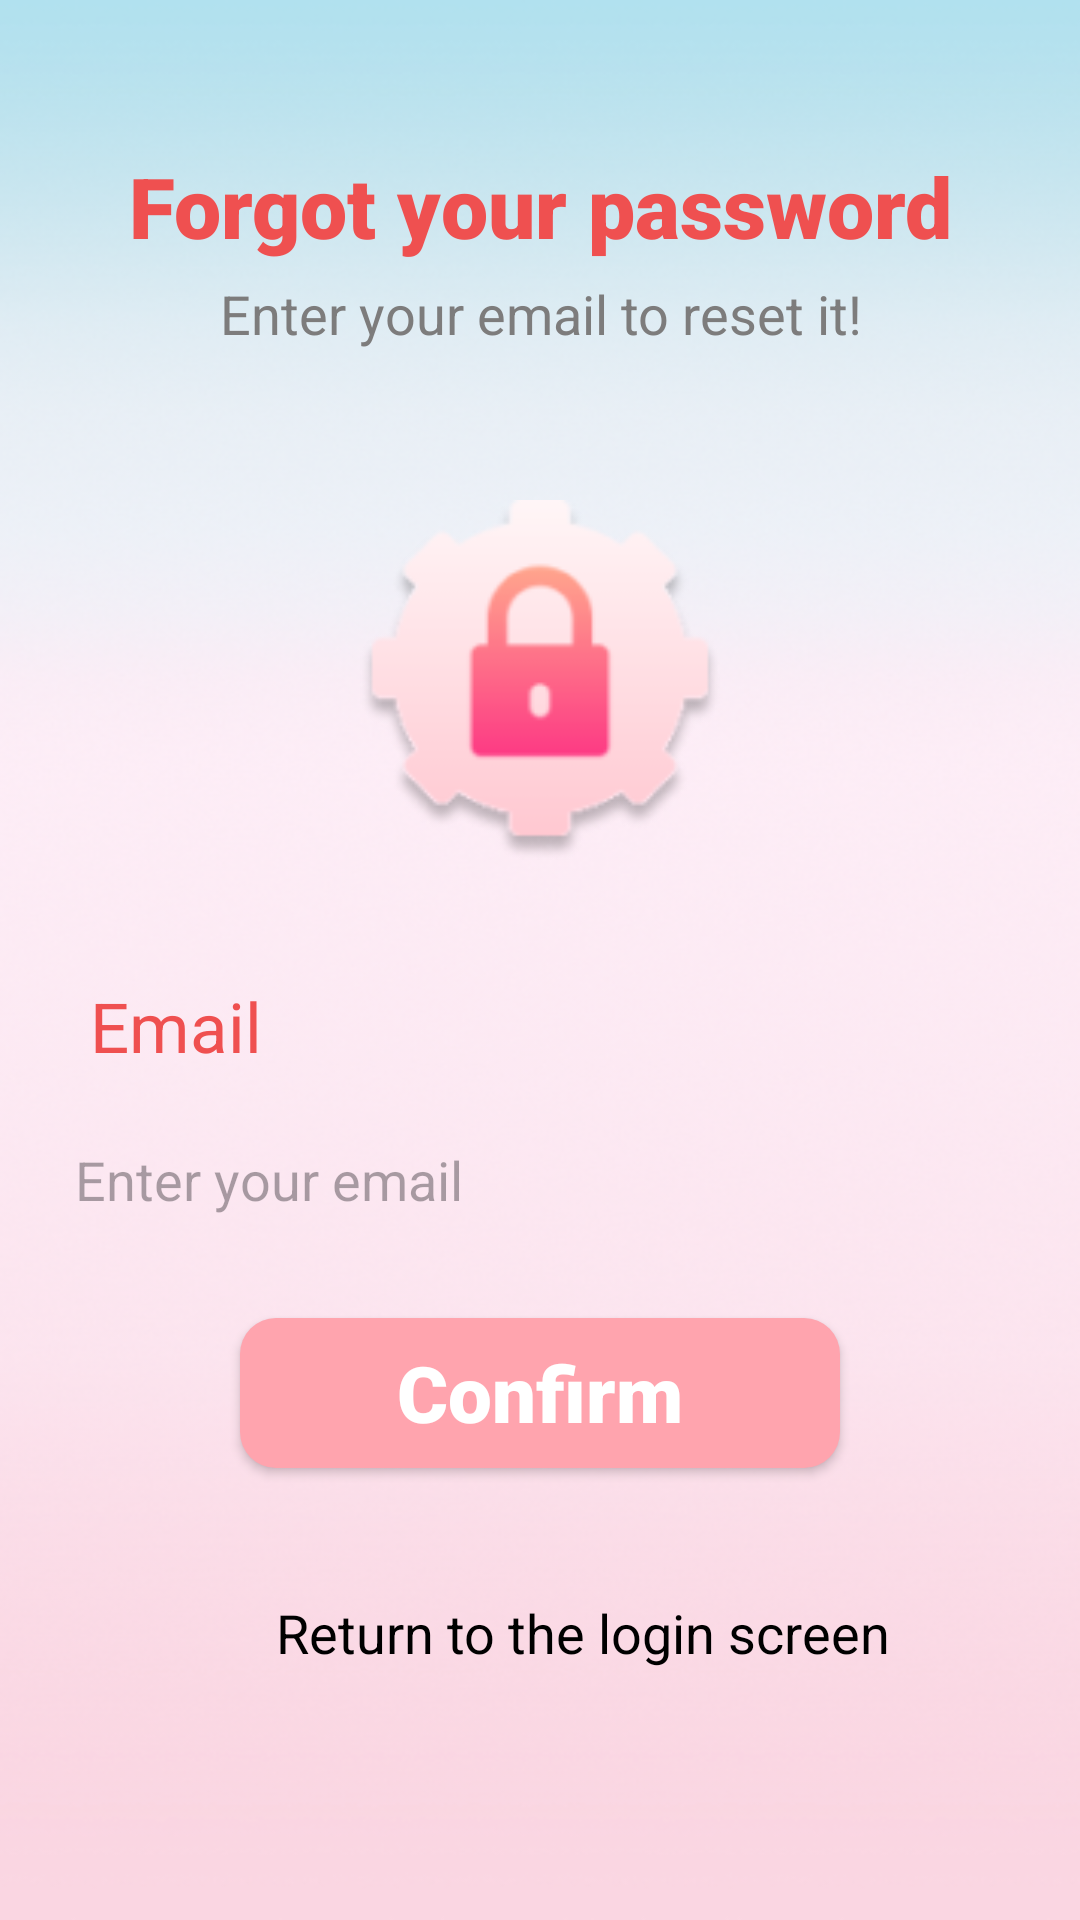

Where icons sit on this 1080 x 1920 app screen, as (x1, y1, x2, y2):
lock: (360, 500, 720, 855)
